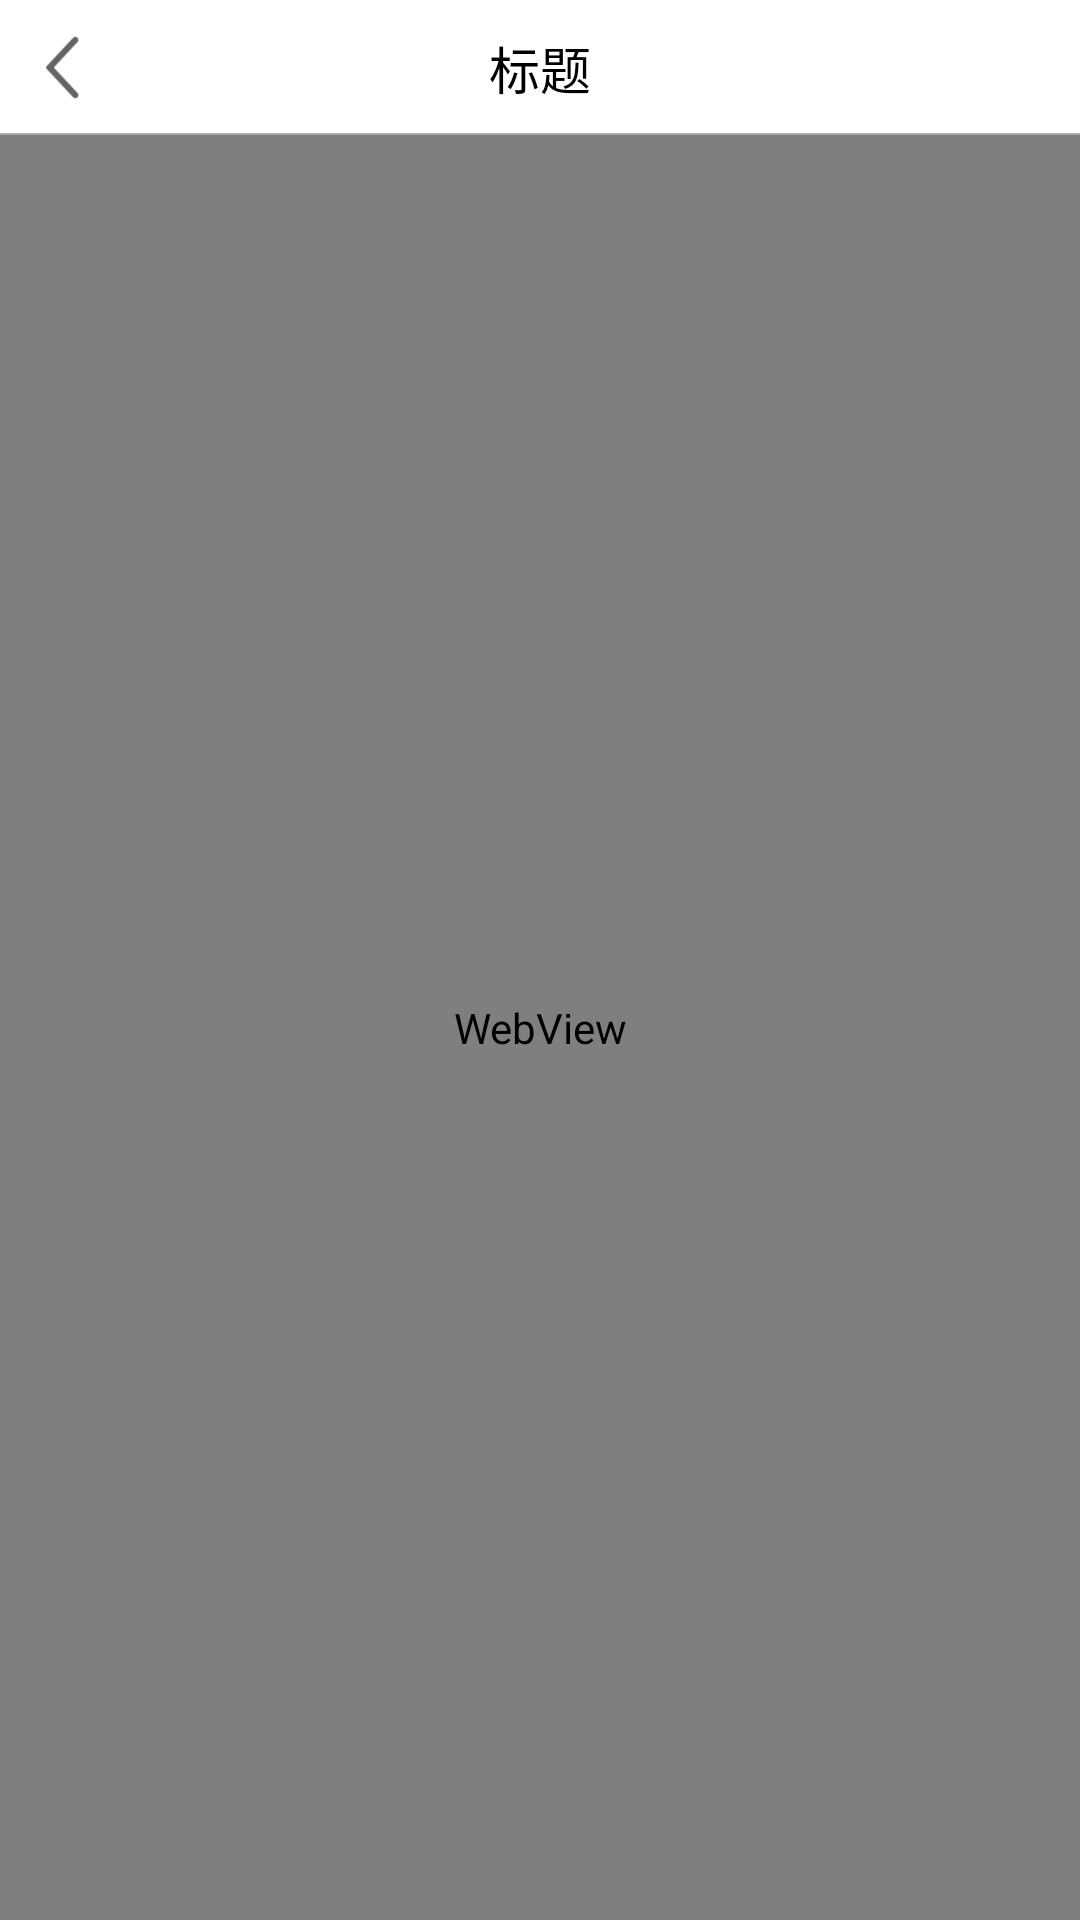

Named icons in this screenshot (1080px×1920px) and their centers, (x=x, y=y):
back: (x=67, y=67)
